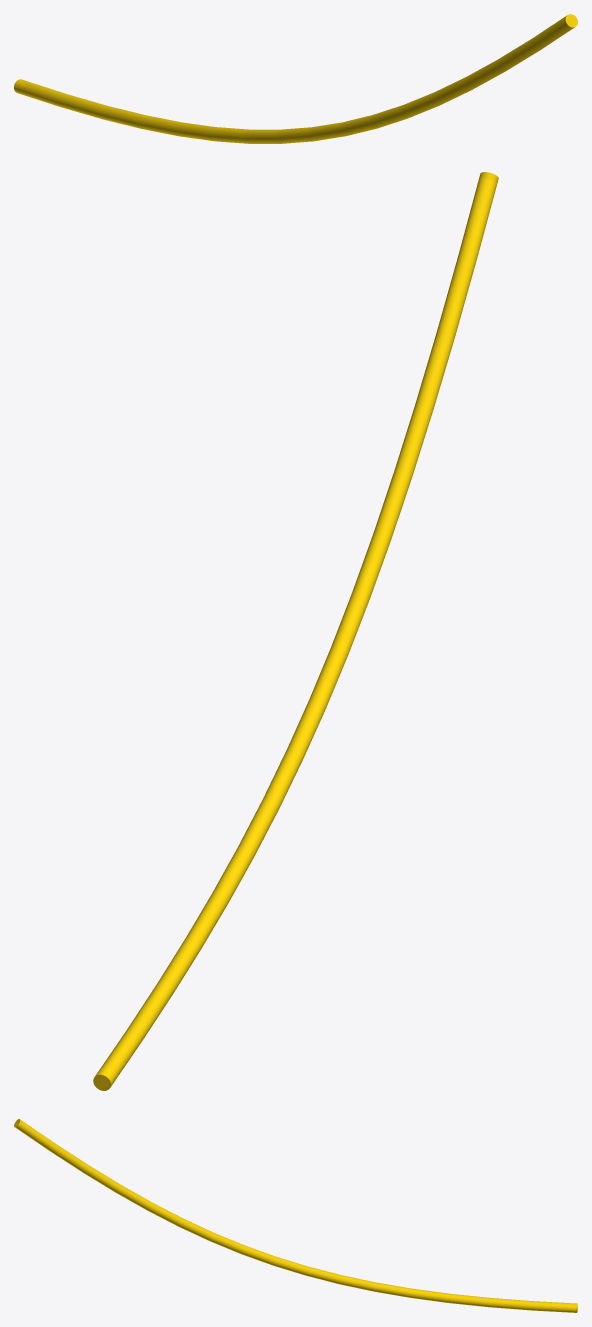
Rendered from Event_420604493_track_0.fbx.
The picture shows the model from 3 angles, top to bottom: view 1: azimuth 30°, elevation 25°; view 2: azimuth 150°, elevation 25°; view 3: azimuth 270°, elevation 25°; orthographic projection. The views are drawn at different scales.
Parts seen in each view (by area): view 1: Model; view 2: Model; view 3: Model.
Part boxes in pixels (box(x1,y1,x2,y2)): Model: box(14, 14, 577, 143); Model: box(93, 172, 498, 1090); Model: box(14, 1119, 577, 1312).
Size of the model in its own units: 0.4581 by 1.09 by 2.37.
